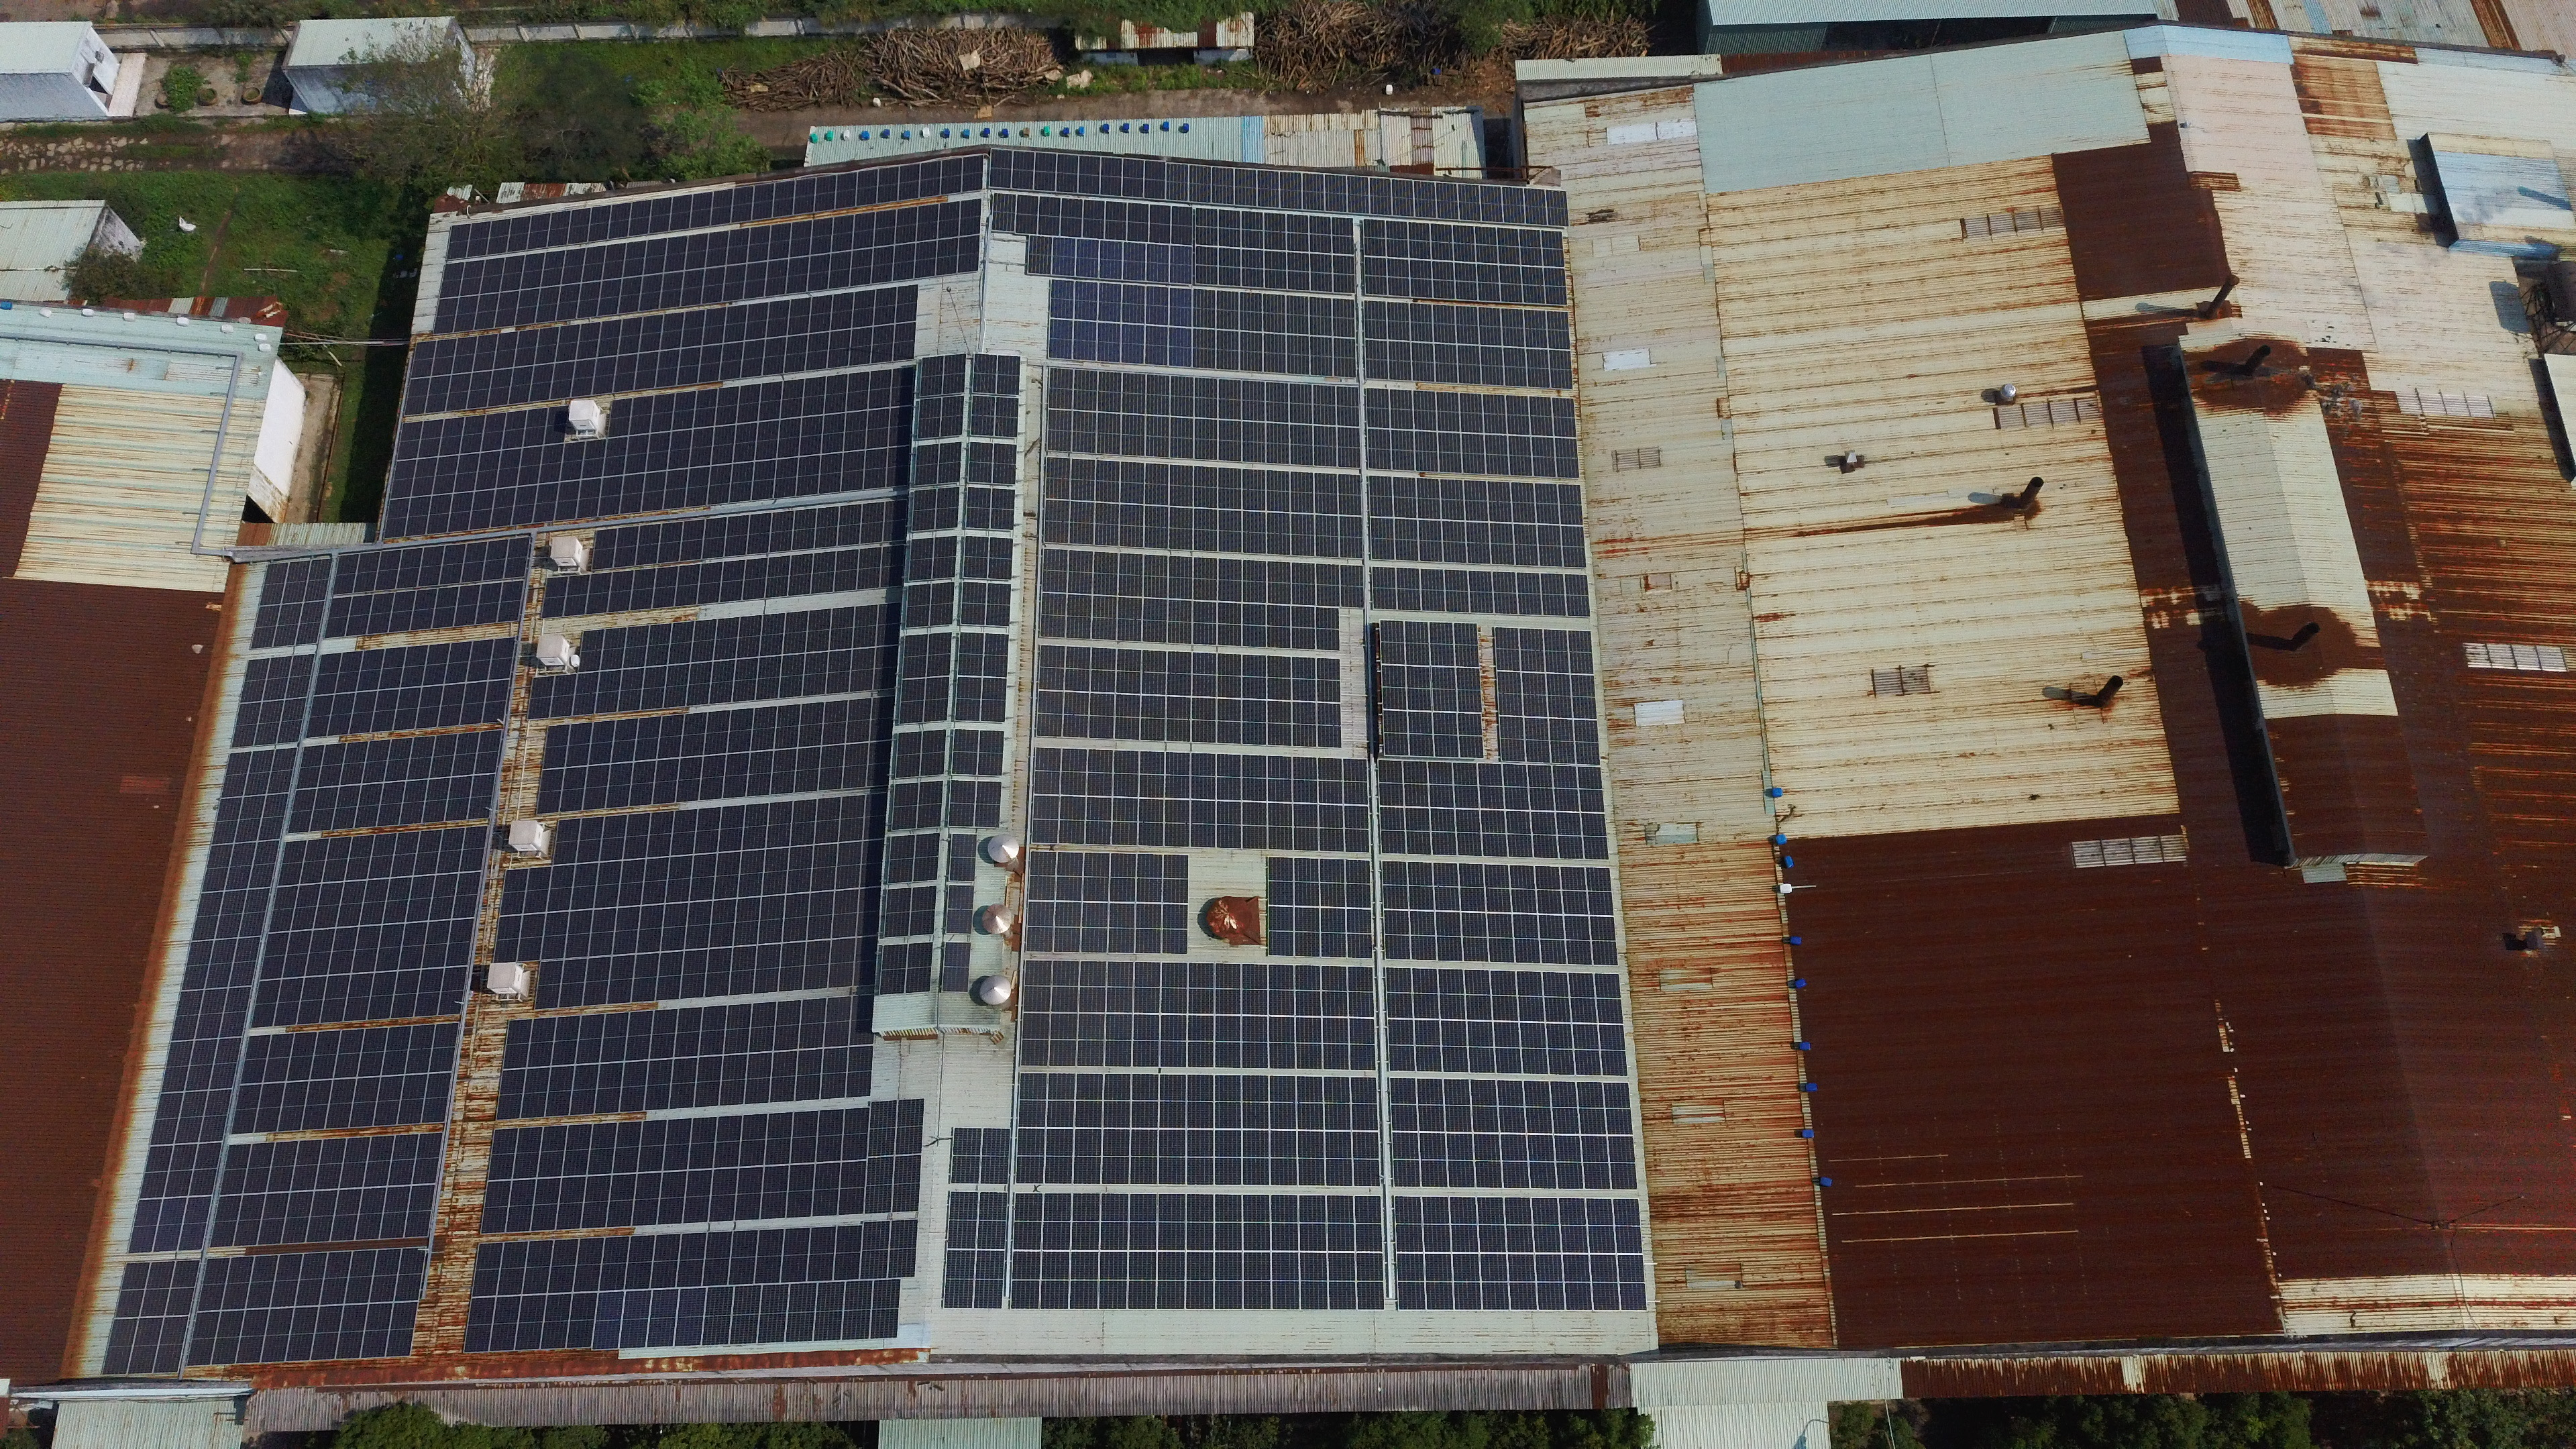solar: (126, 1318, 165, 1375), (234, 1307, 272, 1364), (209, 1307, 246, 1366), (699, 1286, 736, 1345), (782, 1284, 819, 1343), (941, 1249, 977, 1309), (1039, 1249, 1074, 1309), (1154, 1251, 1189, 1311), (1184, 1249, 1219, 1309), (1267, 1251, 1302, 1311), (1297, 1251, 1332, 1311), (1325, 1251, 1361, 1311), (1182, 1192, 1217, 1253), (1097, 1192, 1132, 1253), (1039, 1192, 1074, 1253), (975, 1189, 1010, 1249), (1099, 1127, 1134, 1187), (1184, 1129, 1219, 1189), (1265, 1127, 1300, 1187), (1293, 1129, 1329, 1189), (1072, 1072, 1108, 1132), (1044, 1010, 1079, 1070), (1210, 1010, 1246, 1070), (1345, 964, 1380, 1024), (1237, 961, 1272, 1021), (1123, 1249, 1159, 1309), (101, 1318, 138, 1375), (152, 1316, 189, 1373), (182, 1311, 219, 1368), (257, 1306, 294, 1362), (308, 1304, 345, 1361), (357, 1302, 395, 1359), (495, 1238, 531, 1297), (487, 1293, 522, 1352), (513, 1293, 548, 1352), (563, 1292, 598, 1350), (617, 1290, 653, 1348), (727, 1284, 763, 1343), (754, 1284, 789, 1343), (812, 1283, 847, 1341), (839, 1281, 874, 1339), (1297, 1194, 1332, 1253), (1318, 1074, 1353, 1132), (1293, 1072, 1329, 1131), (1184, 1074, 1219, 1132), (1127, 1014, 1162, 1072), (1263, 1014, 1299, 1072), (1292, 1014, 1327, 1072), (165, 1261, 202, 1316), (138, 1261, 175, 1316), (113, 1263, 150, 1318), (333, 1304, 370, 1359), (382, 1302, 419, 1357), (674, 1230, 708, 1290), (867, 1279, 901, 1339), (1008, 1249, 1042, 1309), (1067, 1249, 1100, 1309), (1099, 1249, 1132, 1309), (1212, 1251, 1246, 1311), (1240, 1249, 1274, 1309), (1353, 1251, 1387, 1311), (1269, 1194, 1302, 1254), (1155, 1192, 1189, 1253), (1125, 1192, 1159, 1253), (1069, 1192, 1102, 1253), (1012, 1191, 1046, 1251), (947, 1191, 980, 1251), (980, 1127, 1014, 1187), (1042, 1125, 1076, 1185), (1127, 1125, 1161, 1185), (1155, 1127, 1189, 1187), (1212, 1127, 1246, 1187), (1240, 1125, 1274, 1185), (1323, 1127, 1357, 1187), (1350, 1129, 1384, 1189), (1353, 1192, 1387, 1253), (1348, 1072, 1382, 1132), (1240, 1072, 1274, 1132), (1210, 1072, 1244, 1132), (1155, 1072, 1189, 1132), (1129, 1072, 1162, 1132), (1100, 1072, 1134, 1132), (1044, 1070, 1077, 1131), (1016, 1072, 1049, 1132), (1017, 1010, 1051, 1070), (1074, 1010, 1108, 1070), (1100, 1012, 1134, 1072), (1157, 1010, 1191, 1070), (1238, 1012, 1272, 1072), (1265, 961, 1299, 1021), (1212, 959, 1246, 1019), (1185, 957, 1219, 1017), (1159, 959, 1192, 1019), (1131, 961, 1164, 1021), (1104, 959, 1138, 1019), (1077, 957, 1111, 1017), (1021, 957, 1054, 1017), (285, 1306, 320, 1362), (522, 1238, 557, 1295), (462, 1297, 497, 1353), (538, 1293, 573, 1350), (644, 1290, 679, 1346), (863, 1155, 897, 1214), (805, 1224, 839, 1283), (591, 1292, 625, 1350), (674, 1288, 708, 1346), (971, 1249, 1005, 1307), (1325, 1194, 1359, 1253), (1240, 1194, 1274, 1253), (1212, 1194, 1246, 1253), (950, 1127, 984, 1185), (1014, 1127, 1047, 1185), (1070, 1127, 1104, 1185), (1265, 1074, 1299, 1132), (1184, 1014, 1217, 1072), (1318, 1014, 1352, 1072), (1345, 1016, 1378, 1074), (1318, 962, 1352, 1021), (1293, 962, 1327, 1021), (1049, 957, 1083, 1016), (1421, 1253, 1454, 1311), (1449, 1253, 1483, 1311), (1479, 1253, 1513, 1311), (1506, 1253, 1539, 1311), (1589, 1253, 1622, 1311), (1617, 1253, 1651, 1311), (140, 1145, 175, 1200), (127, 1198, 163, 1253), (152, 1198, 188, 1253), (179, 1196, 214, 1251), (858, 1219, 890, 1279), (832, 1224, 863, 1284), (778, 1224, 810, 1284), (752, 1228, 784, 1288), (725, 1228, 757, 1288), (701, 1228, 732, 1288), (649, 1231, 681, 1292), (573, 1235, 605, 1295), (548, 1235, 580, 1295), (163, 1143, 196, 1200), (893, 1099, 927, 1155), (839, 1108, 872, 1164), (736, 1113, 770, 1169), (586, 1120, 619, 1177), (511, 1125, 545, 1182), (469, 1240, 502, 1297), (1079, 899, 1113, 955), (1265, 904, 1299, 961), (1341, 801, 1375, 858), (1212, 796, 1246, 853), (1474, 1196, 1507, 1253), (1391, 1196, 1424, 1253), (1532, 1254, 1566, 1311), (1562, 1254, 1596, 1311), (173, 1092, 209, 1145), (196, 1090, 232, 1143), (228, 1083, 264, 1136), (251, 1081, 287, 1134), (274, 1081, 310, 1134), (299, 1077, 334, 1131), (322, 1077, 357, 1131), (347, 1076, 382, 1129), (418, 1072, 453, 1125), (386, 1134, 421, 1187), (361, 1136, 396, 1189), (336, 1136, 372, 1189), (311, 1138, 347, 1191), (288, 1138, 324, 1191), (264, 1141, 299, 1194), (241, 1143, 276, 1196), (218, 1145, 253, 1198), (188, 1143, 223, 1196), (255, 1192, 290, 1246), (280, 1191, 315, 1244), (318, 1253, 354, 1306), (867, 1099, 899, 1157), (763, 1111, 794, 1169), (610, 1118, 642, 1177), (563, 1122, 594, 1180), (536, 1123, 568, 1182), (632, 1171, 663, 1230), (731, 1166, 763, 1224), (886, 1221, 918, 1279), (625, 1233, 656, 1292), (600, 1235, 632, 1293), (1394, 1253, 1426, 1311), (211, 1194, 244, 1249), (306, 1189, 340, 1244), (403, 1184, 437, 1238), (395, 1247, 428, 1302), (370, 1249, 403, 1304), (294, 1253, 327, 1307), (244, 1254, 278, 1309), (219, 1256, 253, 1311), (196, 1258, 230, 1313), (1024, 897, 1058, 952), (1051, 901, 1085, 955), (1106, 901, 1139, 955), (1132, 901, 1166, 955), (1159, 902, 1192, 957), (1159, 853, 1192, 908), (1132, 851, 1166, 906), (1106, 851, 1139, 906), (1081, 849, 1115, 904), (1054, 849, 1088, 904), (1024, 849, 1058, 904), (1263, 856, 1297, 911), (1290, 856, 1323, 911), (1316, 856, 1350, 911), (1343, 858, 1376, 913), (1345, 906, 1378, 961), (1318, 906, 1352, 961), (1292, 906, 1325, 961), (1315, 800, 1348, 855), (1290, 800, 1323, 855), (1265, 800, 1299, 855), (1238, 798, 1272, 853), (1187, 796, 1221, 851), (1161, 794, 1194, 849), (1132, 796, 1166, 851), (1108, 793, 1141, 847), (1081, 793, 1115, 847), (1054, 794, 1088, 849), (1028, 791, 1062, 846), (1030, 743, 1063, 798), (1058, 743, 1092, 798), (1083, 747, 1116, 801), (1108, 747, 1141, 801), (1134, 748, 1168, 803), (1162, 747, 1196, 801), (1187, 748, 1221, 803), (1214, 750, 1247, 805), (1237, 752, 1270, 807), (1263, 752, 1297, 807), (1288, 752, 1322, 807), (1313, 755, 1346, 810), (1444, 1132, 1477, 1187), (1610, 1198, 1644, 1253), (1502, 1196, 1536, 1251), (228, 936, 264, 987), (193, 989, 228, 1040), (271, 977, 306, 1028), (294, 975, 329, 1026), (389, 968, 425, 1019), (410, 968, 446, 1019), (814, 1108, 846, 1164), (787, 1109, 819, 1166), (711, 1116, 743, 1173), (686, 1115, 718, 1171), (662, 1118, 694, 1175), (635, 1118, 667, 1175), (487, 1127, 518, 1184), (479, 1178, 511, 1235), (504, 1178, 536, 1235), (531, 1177, 563, 1233), (554, 1175, 586, 1231), (580, 1173, 612, 1230), (607, 1173, 639, 1230), (656, 1169, 688, 1226), (683, 1169, 715, 1226), (708, 1168, 740, 1224), (757, 1164, 789, 1221), (786, 1162, 817, 1219), (810, 1162, 842, 1219), (837, 1159, 869, 1215), (892, 1155, 924, 1212), (1447, 1196, 1479, 1253), (150, 1092, 184, 1145), (372, 1074, 405, 1127), (395, 1072, 428, 1125), (410, 1132, 444, 1185), (234, 1192, 267, 1246), (329, 1189, 363, 1242), (354, 1187, 387, 1240), (377, 1185, 410, 1238), (345, 1251, 379, 1304), (269, 1254, 303, 1307), (1385, 1021, 1419, 1074), (1438, 1019, 1472, 1072), (1518, 1021, 1552, 1074), (1596, 1024, 1629, 1077), (1387, 1079, 1421, 1132), (1552, 1136, 1585, 1189), (170, 991, 205, 1040), (260, 1033, 295, 1083), (1543, 971, 1575, 1026), (1490, 970, 1522, 1024), (1412, 966, 1444, 1021), (1384, 966, 1415, 1021), (1412, 1019, 1444, 1074), (1545, 1023, 1576, 1077), (1601, 1081, 1633, 1136), (1495, 1079, 1527, 1134), (1467, 1079, 1499, 1134), (1499, 1134, 1530, 1189), (1527, 1134, 1559, 1189), (1583, 1200, 1615, 1254), (1557, 1198, 1589, 1253), (1530, 1198, 1562, 1253), (1421, 1198, 1453, 1253), (205, 939, 239, 991), (180, 939, 214, 991), (219, 987, 253, 1039), (249, 978, 283, 1030), (318, 973, 352, 1024), (341, 973, 375, 1024), (364, 971, 398, 1023), (435, 966, 469, 1017), (426, 1023, 460, 1074), (379, 1024, 412, 1076), (333, 1028, 366, 1079), (308, 1030, 341, 1081), (287, 1031, 320, 1083), (186, 1040, 219, 1092), (161, 1040, 195, 1092), (617, 1060, 649, 1113), (642, 1058, 674, 1111), (667, 1056, 699, 1109), (692, 1054, 724, 1108), (718, 1053, 750, 1106), (793, 1047, 824, 1100), (842, 1044, 874, 1097), (1568, 971, 1599, 1024), (1516, 971, 1548, 1024), (1463, 970, 1495, 1023), (1438, 970, 1470, 1023), (1491, 1023, 1523, 1076), (1569, 1024, 1601, 1077), (1576, 1083, 1608, 1136), (1548, 1081, 1580, 1134), (1522, 1081, 1553, 1134), (1442, 1079, 1474, 1132), (1414, 1079, 1445, 1132), (1417, 1132, 1449, 1185), (1474, 1134, 1506, 1187), (1580, 1136, 1612, 1189), (1606, 1136, 1638, 1189), (1467, 1021, 1499, 1074), (1389, 1132, 1421, 1185), (202, 842, 235, 892), (237, 888, 271, 938), (288, 883, 322, 932), (311, 881, 345, 931), (442, 918, 476, 968), (419, 920, 453, 970), (372, 924, 405, 973), (350, 925, 384, 975), (280, 931, 313, 980), (258, 932, 292, 982), (403, 1024, 437, 1074), (356, 1028, 389, 1077), (239, 1035, 272, 1085), (209, 1039, 242, 1088), (743, 1053, 775, 1104), (191, 892, 225, 939), (357, 879, 391, 927), (395, 922, 428, 970), (303, 929, 336, 977), (879, 943, 909, 996), (902, 941, 932, 994), (941, 939, 971, 993), (823, 996, 853, 1049), (550, 1014, 580, 1067), (520, 1067, 550, 1120), (594, 1062, 625, 1115), (770, 1049, 800, 1102), (819, 1047, 849, 1100), (1088, 644, 1118, 697), (1263, 602, 1293, 655), (225, 842, 257, 892), (336, 879, 368, 929), (403, 874, 435, 924), (327, 927, 359, 977), (881, 888, 911, 939), (697, 1005, 727, 1056), (502, 1019, 533, 1070), (1263, 695, 1293, 747), (1138, 692, 1168, 743), (1035, 688, 1065, 740), (1063, 642, 1093, 694), (1164, 648, 1194, 699), (1238, 649, 1269, 701), (1189, 598, 1219, 649), (1139, 596, 1169, 648), (1063, 589, 1093, 640), (1263, 557, 1293, 609), (248, 840, 280, 888), (216, 892, 248, 939), (269, 885, 301, 932), (382, 878, 414, 925), (426, 874, 458, 922), (449, 872, 481, 920), (849, 994, 878, 1047), (748, 1001, 777, 1054), (674, 1007, 702, 1060), (625, 1010, 653, 1063), (600, 1010, 628, 1063), (575, 1012, 603, 1065), (547, 1065, 575, 1118), (571, 1063, 600, 1116), (1343, 755, 1371, 809), (1191, 694, 1219, 747), (1164, 694, 1192, 747), (1088, 688, 1116, 741), (1215, 649, 1244, 702), (1288, 653, 1316, 706), (1313, 653, 1341, 706), (1290, 600, 1318, 653), (1240, 600, 1269, 653), (1336, 511, 1364, 564), (908, 886, 938, 936), (663, 855, 694, 904), (736, 849, 766, 899), (786, 846, 816, 895), (833, 842, 863, 892), (731, 897, 761, 947), (708, 899, 738, 948), (540, 911, 570, 961), (727, 945, 757, 994), (752, 943, 782, 993), (777, 941, 807, 991), (1431, 862, 1461, 911), (1382, 911, 1412, 961), (1408, 911, 1438, 961), (1435, 911, 1465, 961), (1461, 913, 1491, 962), (1513, 915, 1543, 964), (1564, 916, 1594, 966), (1589, 915, 1619, 964), (1594, 973, 1624, 1023), (1486, 915, 1516, 964), (1536, 913, 1566, 962), (294, 600, 326, 646), (435, 681, 467, 727), (338, 741, 370, 787), (294, 745, 326, 791), (435, 828, 467, 874), (798, 998, 826, 1049), (775, 1000, 803, 1051), (724, 1003, 752, 1054), (649, 1008, 678, 1060), (527, 1017, 556, 1069), (497, 1069, 525, 1120), (1290, 699, 1318, 750), (1315, 699, 1343, 750), (1240, 697, 1269, 748), (1215, 694, 1244, 745), (1115, 692, 1143, 743), (1063, 688, 1092, 740), (1037, 640, 1065, 692), (1115, 648, 1143, 699), (1139, 648, 1168, 699), (1191, 648, 1219, 699), (1265, 653, 1293, 704), (1313, 605, 1341, 656), (1215, 600, 1244, 651), (1166, 594, 1194, 646), (1115, 594, 1143, 646), (1090, 593, 1118, 644), (1040, 591, 1069, 642), (1040, 547, 1069, 598), (1065, 547, 1093, 598), (1092, 548, 1120, 600), (1116, 550, 1145, 602), (1141, 550, 1169, 602), (1166, 552, 1194, 603), (1191, 554, 1219, 605), (1215, 556, 1244, 607), (1240, 557, 1269, 609), (1290, 559, 1318, 610), (1315, 559, 1343, 610), (1338, 561, 1366, 612), (911, 833, 941, 881), (255, 699, 285, 747), (414, 683, 444, 731), (317, 741, 347, 789), (377, 780, 407, 828), (557, 766, 587, 814), (628, 761, 658, 809), (674, 755, 704, 803), (697, 754, 727, 801), (745, 750, 775, 798), (764, 801, 794, 849), (717, 805, 747, 853), (669, 809, 699, 856), (575, 816, 605, 863), (499, 869, 529, 916), (522, 867, 552, 915), (640, 858, 671, 906), (809, 844, 839, 892), (805, 892, 835, 939), (492, 916, 522, 964), (655, 952, 685, 1000), (678, 950, 708, 998), (1453, 763, 1483, 810), (1401, 761, 1431, 809), (1376, 805, 1407, 853), (1454, 809, 1484, 856), (1530, 810, 1560, 858), (1555, 810, 1585, 858), (1580, 812, 1610, 860), (1458, 863, 1488, 911), (916, 780, 945, 830), (948, 833, 977, 883), (947, 885, 975, 934), (594, 860, 623, 909), (617, 858, 646, 908), (688, 853, 717, 902), (761, 847, 789, 897), (855, 886, 883, 936), (757, 895, 786, 945), (685, 901, 713, 950), (660, 902, 688, 952), (635, 904, 663, 954), (587, 908, 616, 957), (564, 909, 593, 959), (517, 913, 545, 962), (534, 961, 563, 1010), (559, 957, 587, 1007), (632, 952, 660, 1001), (704, 947, 732, 996), (828, 938, 856, 987), (853, 936, 881, 985), (1407, 862, 1435, 911), (1382, 862, 1410, 911), (230, 702, 260, 748), (278, 697, 308, 743), (304, 694, 334, 740), (327, 692, 357, 738), (349, 690, 379, 736), (370, 688, 400, 734), (391, 686, 421, 732), (458, 679, 488, 725), (481, 679, 511, 725), (474, 729, 504, 775), (449, 731, 479, 777), (428, 734, 458, 780), (407, 736, 437, 782), (384, 738, 414, 784), (361, 740, 391, 786), (265, 748, 295, 794), (244, 750, 274, 796), (221, 752, 251, 798), (212, 798, 242, 844), (235, 796, 265, 842), (257, 794, 287, 840), (288, 787, 318, 833), (308, 787, 338, 833), (331, 786, 361, 832), (354, 782, 384, 828), (398, 780, 428, 826), (421, 777, 451, 823), (444, 775, 474, 821), (467, 773, 497, 819), (458, 826, 488, 872), (414, 830, 444, 876), (389, 833, 419, 879), (368, 833, 398, 879), (345, 835, 375, 881), (322, 837, 352, 883), (299, 839, 329, 885), (278, 840, 308, 886), (771, 704, 801, 750), (678, 711, 708, 757), (564, 722, 594, 768), (605, 763, 635, 809), (816, 745, 846, 791), (1405, 809, 1435, 855), (897, 678, 925, 725), (892, 782, 920, 830), (888, 835, 916, 883), (846, 697, 874, 745), (821, 699, 849, 747), (725, 708, 754, 755), (704, 708, 732, 755), (658, 713, 686, 761), (541, 724, 570, 771), (536, 768, 564, 816), (582, 764, 610, 812), (722, 752, 750, 800), (794, 747, 823, 794), (842, 741, 870, 789), (837, 794, 865, 842), (812, 796, 840, 844), (789, 800, 817, 847), (646, 810, 674, 858), (600, 816, 628, 863), (570, 863, 598, 911), (713, 853, 741, 901), (858, 840, 886, 888), (832, 890, 860, 938), (780, 893, 809, 941), (612, 908, 640, 955), (582, 957, 610, 1005), (607, 955, 635, 1003), (803, 941, 832, 989), (1044, 455, 1072, 502), (1069, 456, 1097, 504), (1093, 458, 1122, 506), (1118, 460, 1146, 508), (1141, 460, 1169, 508), (1166, 464, 1194, 511), (1191, 464, 1219, 511), (1215, 465, 1244, 513), (1240, 467, 1269, 515), (1265, 467, 1293, 515), (1290, 469, 1318, 517), (1313, 471, 1341, 518), (1336, 472, 1364, 520), (1338, 425, 1366, 472), (1311, 423, 1339, 471), (1288, 419, 1316, 467), (1263, 419, 1292, 467), (1240, 419, 1269, 467), (1215, 418, 1244, 465), (1192, 416, 1221, 464), (1168, 414, 1196, 462), (1145, 414, 1173, 462), (1118, 412, 1146, 460), (1093, 409, 1122, 456), (1070, 409, 1099, 456), (1044, 405, 1072, 453), (1072, 366, 1100, 414), (1095, 366, 1123, 414), (1143, 373, 1171, 421), (1215, 377, 1244, 425), (1238, 379, 1267, 426), (1265, 379, 1293, 426), (1286, 380, 1315, 428), (1330, 336, 1359, 384), (1307, 331, 1336, 379), (1283, 331, 1311, 379), (1260, 329, 1288, 377), (1237, 327, 1265, 375), (1215, 327, 1244, 375), (1191, 326, 1219, 373), (1166, 324, 1194, 372), (1141, 322, 1169, 370), (1118, 322, 1146, 370), (1093, 318, 1122, 366), (1070, 317, 1099, 364), (1047, 274, 1076, 322), (1072, 276, 1100, 324), (1095, 278, 1123, 326), (1120, 280, 1148, 327), (1145, 281, 1173, 329), (1168, 283, 1196, 331), (1191, 285, 1219, 333), (1237, 288, 1265, 336), (1261, 290, 1290, 338), (1283, 292, 1311, 340), (1307, 294, 1336, 341), (1330, 295, 1359, 343), (1330, 251, 1359, 299), (1307, 248, 1336, 295), (1306, 212, 1334, 260), (1260, 248, 1288, 295), (1215, 244, 1244, 292), (1192, 242, 1221, 290), (1168, 242, 1196, 290), (1120, 239, 1148, 287), (1074, 237, 1102, 285), (1049, 234, 1077, 281), (1026, 232, 1054, 280), (1146, 200, 1175, 248), (1191, 203, 1219, 251), (1215, 205, 1244, 253), (1238, 207, 1267, 255), (1284, 211, 1313, 258), (1284, 246, 1313, 294), (1330, 214, 1359, 262), (1527, 763, 1555, 810), (1502, 763, 1530, 810), (1477, 763, 1506, 810), (1426, 761, 1454, 809), (1376, 761, 1405, 809), (1430, 809, 1458, 856), (1479, 810, 1507, 858), (1506, 810, 1534, 858), (1585, 867, 1614, 915), (1560, 867, 1589, 915), (1511, 865, 1539, 913), (1484, 865, 1513, 913), (281, 561, 311, 605), (249, 605, 280, 649), (272, 603, 303, 648), (285, 655, 315, 699), (780, 610, 810, 655), (688, 619, 718, 663), (571, 672, 602, 717), (594, 669, 625, 713), (616, 667, 646, 711), (731, 658, 761, 702), (847, 648, 878, 692), (1290, 511, 1316, 561), (1240, 508, 1267, 557), (1215, 506, 1242, 556), (1093, 501, 1120, 550), (1044, 497, 1070, 547), (893, 731, 922, 777), (918, 729, 947, 775), (952, 729, 980, 775), (975, 729, 1003, 775), (947, 780, 975, 826), (264, 656, 292, 702), (796, 702, 824, 748), (750, 706, 778, 752), (633, 717, 662, 763), (610, 718, 639, 764), (587, 720, 616, 766), (651, 759, 679, 805), (770, 748, 798, 794), (867, 740, 895, 786), (860, 793, 888, 839), (741, 803, 770, 849), (694, 809, 722, 855), (621, 814, 649, 860), (552, 819, 580, 865), (547, 865, 575, 911), (1122, 370, 1150, 416), (1192, 375, 1221, 421), (1238, 248, 1267, 294), (1143, 242, 1171, 288), (1168, 203, 1196, 249), (1261, 209, 1290, 255), (1403, 619, 1431, 665), (1430, 621, 1458, 667), (1520, 628, 1548, 674), (1543, 628, 1571, 674), (1568, 630, 1596, 676), (1407, 711, 1435, 757), (1523, 717, 1552, 763), (1573, 718, 1601, 764), (1536, 867, 1564, 913), (303, 559, 333, 602), (258, 563, 288, 605), (356, 649, 386, 692), (757, 614, 787, 656), (598, 628, 628, 671), (525, 678, 556, 720), (639, 667, 669, 709), (662, 665, 692, 708), (872, 646, 902, 688), (989, 191, 1019, 234), (1079, 196, 1109, 239), (1053, 152, 1083, 195), (1230, 166, 1260, 209), (1277, 170, 1307, 212), (1322, 172, 1352, 214), (1343, 173, 1373, 216), (1364, 177, 1394, 219), (1387, 177, 1417, 219), (1431, 180, 1461, 223), (1315, 511, 1341, 559), (1265, 511, 1292, 559), (1191, 508, 1217, 556), (1143, 504, 1169, 552), (1116, 502, 1143, 550), (1169, 373, 1196, 421), (1311, 384, 1338, 432), (1336, 386, 1362, 433), (1047, 315, 1074, 363), (1214, 287, 1240, 334), (1097, 237, 1123, 285), (862, 448, 890, 492), (662, 467, 690, 511), (425, 492, 453, 536), (656, 520, 685, 564), (460, 541, 488, 586), (465, 639, 494, 683), (444, 640, 472, 685), (241, 658, 269, 702), (828, 607, 856, 651), (805, 609, 833, 653), (736, 614, 764, 658), (667, 621, 695, 665), (623, 625, 651, 669), (577, 628, 605, 672), (685, 662, 713, 706), (709, 660, 738, 704), (869, 697, 897, 741), (1453, 625, 1481, 669), (1546, 674, 1575, 718), (1430, 667, 1458, 711), (1405, 667, 1433, 711), (1382, 711, 1410, 755), (1552, 766, 1580, 810), (1069, 499, 1093, 548), (1123, 203, 1154, 244), (1010, 150, 1040, 191), (1097, 156, 1127, 196), (1162, 163, 1192, 203), (1185, 165, 1215, 205), (1208, 166, 1238, 207), (1299, 172, 1329, 212), (1410, 179, 1440, 219), (975, 782, 1001, 828), (1047, 364, 1074, 410), (1380, 619, 1407, 665), (1571, 674, 1598, 720), (1576, 766, 1603, 812), (885, 448, 913, 490), (816, 453, 844, 495), (683, 465, 711, 508), (619, 472, 648, 515), (596, 474, 625, 517), (575, 478, 603, 520), (467, 488, 495, 531), (403, 495, 432, 538), (881, 501, 909, 543), (789, 508, 817, 550), (768, 511, 796, 554), (745, 513, 773, 556), (722, 515, 750, 557), (678, 518, 706, 561), (633, 524, 662, 566), (612, 525, 640, 568), (418, 547, 446, 589), (366, 593, 395, 635), (387, 591, 416, 633), (432, 586, 460, 628), (453, 584, 481, 626), (474, 582, 502, 625), (488, 637, 517, 679), (423, 644, 451, 686), (400, 646, 428, 688), (379, 648, 407, 690), (334, 651, 363, 694), (313, 653, 341, 695), (540, 577, 568, 619), (561, 575, 589, 617), (584, 571, 612, 614), (607, 570, 635, 612), (628, 568, 656, 610), (651, 566, 679, 609), (672, 563, 701, 605), (740, 557, 768, 600), (764, 556, 793, 598), (787, 554, 816, 596), (809, 550, 837, 593), (855, 547, 883, 589), (878, 545, 906, 587), (874, 603, 902, 646), (851, 605, 879, 648), (711, 617, 740, 660), (644, 625, 672, 667), (548, 674, 577, 717), (754, 656, 782, 699), (778, 655, 807, 697), (801, 653, 830, 695), (824, 651, 853, 694), (1102, 200, 1131, 242), (985, 147, 1014, 189), (1031, 150, 1060, 193), (1141, 159, 1169, 202), (1254, 168, 1283, 211), (1169, 506, 1194, 554), (640, 469, 667, 513), (533, 481, 559, 525), (962, 536, 989, 580), (987, 536, 1014, 580), (961, 580, 987, 625), (906, 584, 932, 628), (925, 633, 952, 678), (957, 633, 984, 678), (980, 678, 1007, 722), (955, 678, 982, 722), (924, 678, 950, 722), (814, 506, 840, 550), (1417, 518, 1444, 563), (1490, 522, 1516, 566), (1491, 571, 1518, 616), (1468, 570, 1495, 614), (1495, 626, 1522, 671), (1522, 672, 1548, 717), (1497, 672, 1523, 717), (1456, 669, 1483, 713), (1380, 665, 1407, 709), (1433, 713, 1460, 757), (1458, 713, 1484, 757), (1499, 717, 1525, 761), (1550, 718, 1576, 763), (474, 451, 502, 492), (517, 446, 545, 487), (538, 444, 566, 485), (580, 439, 609, 479), (602, 437, 630, 478), (863, 409, 892, 449), (345, 594, 373, 635), (410, 589, 439, 630), (497, 580, 525, 621), (718, 561, 747, 602), (1012, 195, 1040, 235), (1035, 196, 1063, 237), (1056, 196, 1085, 237), (1076, 156, 1104, 196), (1118, 157, 1146, 198), (1405, 219, 1433, 260), (1385, 257, 1414, 297), (1474, 264, 1502, 304), (1523, 310, 1552, 350), (1454, 306, 1483, 347), (1502, 347, 1530, 387), (1548, 349, 1576, 389), (1527, 396, 1555, 437), (886, 405, 913, 448), (839, 451, 865, 494), (794, 455, 821, 497), (771, 458, 798, 501), (750, 458, 777, 501), (729, 462, 755, 504), (706, 464, 732, 506), (554, 479, 580, 522), (511, 485, 538, 527), (490, 487, 517, 529), (448, 490, 474, 533), (384, 497, 410, 540), (858, 502, 885, 545), (835, 504, 862, 547), (701, 518, 727, 561), (591, 527, 617, 570), (504, 538, 531, 580), (483, 540, 510, 582), (439, 543, 465, 586), (396, 547, 423, 589), (375, 548, 402, 591), (354, 552, 380, 594), (331, 554, 357, 596), (326, 596, 352, 639), (697, 563, 724, 605), (1463, 479, 1490, 522), (1438, 479, 1465, 522), (1391, 478, 1417, 520), (1368, 474, 1394, 517), (1440, 522, 1467, 564), (1513, 524, 1539, 566), (1564, 573, 1591, 616), (1543, 189, 1571, 228), (909, 536, 934, 580), (932, 536, 957, 580), (985, 582, 1010, 626), (931, 582, 955, 626), (902, 635, 927, 679), (984, 633, 1008, 678), (1536, 483, 1560, 527), (1488, 481, 1513, 525), (1562, 525, 1587, 570), (890, 366, 916, 407), (867, 370, 893, 410), (823, 375, 849, 416), (801, 377, 828, 418), (713, 386, 740, 426), (692, 389, 718, 430), (628, 395, 655, 435), (522, 407, 548, 448), (501, 410, 527, 451), (479, 412, 506, 453), (460, 414, 487, 455), (439, 416, 465, 456), (418, 418, 444, 458), (389, 458, 416, 499), (410, 456, 437, 497), (433, 455, 460, 495), (453, 453, 479, 494), (559, 442, 586, 483), (623, 435, 649, 476), (646, 432, 672, 472), (667, 430, 694, 471), (688, 428, 715, 469), (709, 425, 736, 465), (732, 423, 759, 464), (798, 416, 824, 456), (821, 414, 847, 455), (842, 410, 869, 451), (941, 354, 968, 395), (833, 550, 860, 591), (1522, 186, 1548, 226), (1539, 230, 1566, 271), (1518, 228, 1545, 269), (1497, 226, 1523, 267), (1474, 225, 1500, 265), (1451, 225, 1477, 265), (1362, 257, 1389, 297), (1410, 258, 1437, 299), (1433, 260, 1460, 301), (1453, 262, 1479, 303), (1499, 265, 1525, 306), (1522, 265, 1548, 306), (1502, 308, 1529, 349), (1477, 306, 1504, 347), (1431, 304, 1458, 345), (1408, 303, 1435, 343), (1385, 301, 1412, 341), (1362, 299, 1389, 340), (1362, 340, 1389, 380), (1387, 341, 1414, 382), (1410, 343, 1437, 384), (1433, 343, 1460, 384), (1525, 347, 1552, 387), (1552, 398, 1578, 439), (1483, 395, 1509, 435), (1458, 393, 1484, 433), (1435, 391, 1461, 432), (1412, 391, 1438, 432), (1389, 389, 1415, 430), (1391, 430, 1417, 471), (1414, 430, 1440, 471), (1461, 433, 1488, 474), (1507, 435, 1534, 476), (1532, 435, 1559, 476), (1555, 437, 1582, 478), (607, 396, 632, 439), (994, 396, 1019, 439), (970, 395, 994, 437), (939, 395, 964, 437), (918, 398, 943, 441), (913, 444, 938, 487), (938, 442, 962, 485), (970, 442, 994, 485), (993, 444, 1017, 487), (991, 488, 1016, 531), (966, 487, 991, 529), (936, 488, 961, 531), (913, 488, 938, 531), (1559, 485, 1583, 527), (1511, 481, 1536, 524), (1415, 479, 1440, 522), (1369, 517, 1394, 559), (1394, 518, 1419, 561), (1467, 522, 1491, 564), (1537, 524, 1562, 566), (1541, 573, 1566, 616), (1518, 571, 1543, 614), (1444, 570, 1468, 612), (1421, 568, 1445, 610), (1398, 568, 1422, 610), (1369, 566, 1394, 609), (729, 184, 755, 223), (833, 172, 860, 211), (915, 203, 941, 242), (872, 209, 899, 248), (851, 211, 878, 249), (787, 219, 814, 258), (704, 230, 731, 269), (596, 278, 623, 317), (741, 260, 768, 299), (763, 258, 789, 297), (869, 244, 895, 283), (807, 294, 833, 333), (679, 310, 706, 349), (575, 320, 602, 359), (432, 338, 458, 377), (508, 366, 534, 405), (591, 357, 617, 396), (612, 356, 639, 395), (655, 350, 681, 389), (697, 343, 724, 382), (740, 338, 766, 377), (761, 336, 787, 375), (782, 334, 809, 373), (826, 329, 853, 368), (396, 421, 423, 460), (495, 449, 522, 488), (754, 421, 780, 460), (775, 419, 801, 458), (1456, 184, 1483, 223), (1477, 186, 1504, 225), (1502, 186, 1529, 225), (1430, 223, 1456, 262), (1385, 221, 1412, 260), (1362, 219, 1389, 258), (1543, 267, 1569, 306), (1546, 311, 1573, 350), (1458, 345, 1484, 384), (1479, 347, 1506, 386), (1506, 396, 1532, 435), (1364, 389, 1391, 428), (1366, 430, 1392, 469), (1438, 433, 1465, 472), (1486, 435, 1513, 474), (846, 372, 870, 412), (780, 379, 805, 419), (757, 382, 782, 423), (736, 384, 761, 425), (672, 389, 697, 430), (649, 393, 674, 433), (545, 403, 570, 444), (920, 356, 945, 396), (973, 354, 998, 395), (996, 356, 1021, 396), (444, 223, 471, 260), (465, 221, 492, 258), (487, 218, 513, 255), (525, 214, 552, 251), (566, 207, 593, 244), (586, 205, 612, 242), (607, 202, 633, 239), (626, 200, 653, 237), (648, 196, 674, 234), (688, 191, 715, 228), (709, 188, 736, 225), (750, 182, 777, 219), (771, 180, 798, 218), (791, 177, 817, 214), (812, 175, 839, 212), (853, 168, 879, 205), (874, 166, 901, 203), (895, 165, 922, 202), (938, 157, 964, 195), (959, 154, 985, 191), (936, 202, 962, 239), (892, 207, 918, 244), (809, 218, 835, 255), (747, 225, 773, 262), (725, 228, 752, 265), (683, 234, 709, 271), (642, 239, 669, 276), (621, 241, 648, 278), (600, 242, 626, 280), (580, 246, 607, 283), (561, 248, 587, 285), (541, 249, 568, 287), (518, 253, 545, 290), (499, 255, 525, 292), (479, 257, 506, 294), (439, 262, 465, 299), (494, 292, 520, 329), (534, 285, 561, 322), (575, 281, 602, 318), (616, 276, 642, 313), (637, 274, 663, 311), (658, 271, 685, 308), (679, 269, 706, 306), (699, 267, 725, 304), (722, 264, 748, 301), (786, 257, 812, 294), (805, 253, 832, 290), (826, 251, 853, 288), (890, 242, 916, 280), (911, 241, 938, 278), (934, 237, 961, 274), (830, 214, 855, 253), (433, 297, 458, 336), (556, 283, 580, 322), (849, 248, 874, 287), (893, 283, 918, 322), (872, 287, 897, 326), (851, 290, 876, 329), (830, 292, 855, 331), (787, 297, 812, 336), (764, 299, 789, 338), (745, 303, 770, 341), (725, 304, 750, 343), (702, 306, 727, 345), (660, 311, 685, 350), (639, 313, 663, 352), (617, 317, 642, 356), (598, 318, 623, 357), (556, 324, 580, 363), (534, 326, 559, 364), (513, 329, 538, 368), (494, 331, 518, 370), (472, 334, 497, 373), (453, 336, 478, 375), (410, 341, 435, 380), (405, 377, 430, 416), (426, 375, 451, 414), (446, 373, 471, 412), (467, 372, 492, 410), (488, 368, 513, 407), (529, 364, 554, 403), (550, 361, 575, 400), (571, 357, 596, 396), (635, 350, 660, 389), (678, 347, 702, 386), (720, 341, 745, 380), (805, 333, 830, 372), (849, 326, 874, 364), (870, 326, 895, 364), (892, 322, 916, 361), (506, 216, 531, 253), (547, 211, 571, 248), (669, 193, 694, 230), (918, 161, 943, 198), (957, 198, 982, 235), (766, 223, 791, 260), (663, 235, 688, 272), (458, 258, 483, 295), (455, 294, 479, 331), (474, 292, 499, 329), (517, 288, 541, 326), (955, 235, 980, 272)
